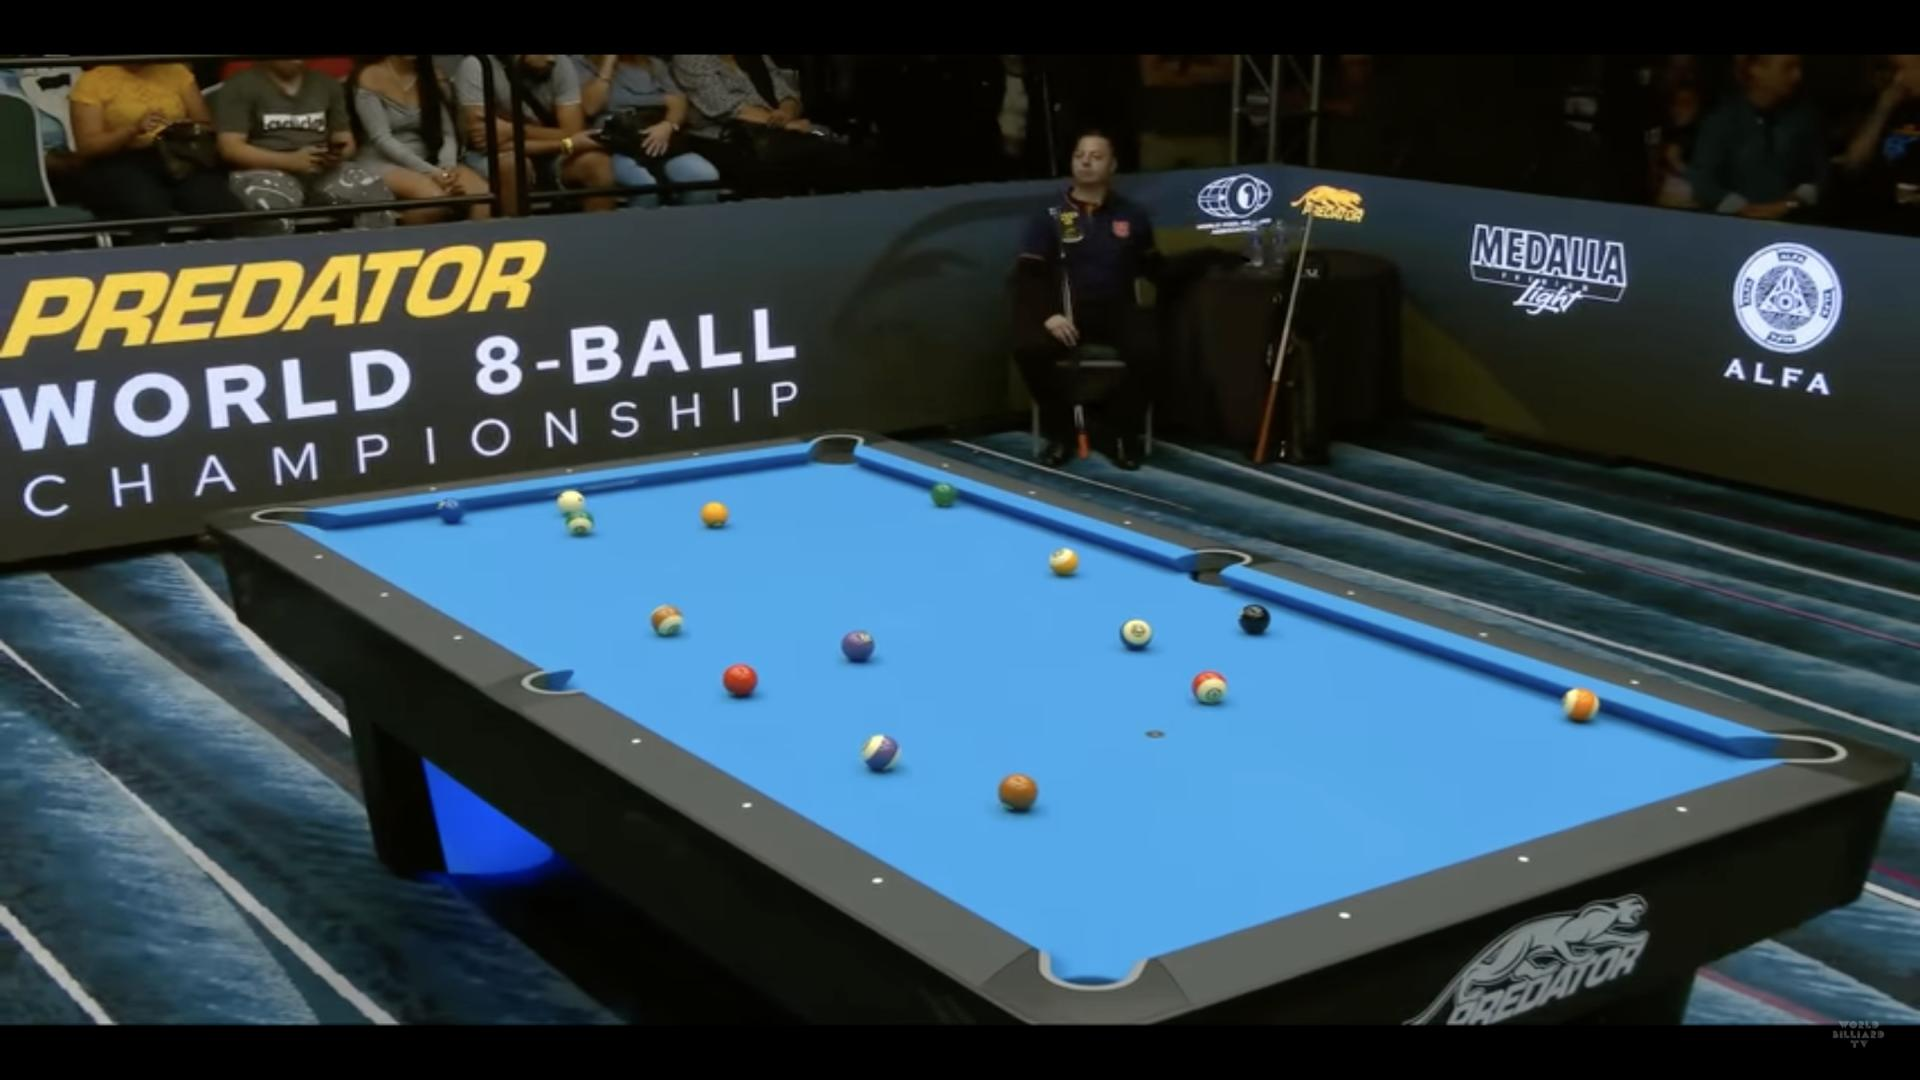Black: (1238, 604, 1270, 634)
Cue: (556, 491, 585, 513)
Dot: (1672, 802, 1692, 819), (1335, 906, 1353, 923), (1515, 851, 1534, 866), (628, 735, 644, 749), (869, 873, 884, 887), (741, 799, 756, 814), (1629, 676, 1640, 688), (1344, 585, 1356, 597), (1477, 629, 1489, 640), (314, 553, 324, 563), (378, 591, 390, 600), (452, 633, 463, 642), (429, 484, 439, 493), (1029, 489, 1038, 497), (942, 462, 951, 469), (1124, 518, 1131, 526), (566, 467, 574, 473), (692, 451, 700, 458)
Solid: (998, 774, 1036, 811), (723, 663, 758, 695), (843, 630, 876, 662), (700, 502, 729, 527), (435, 498, 463, 524), (932, 481, 956, 506)
Striped: (861, 735, 902, 771), (1563, 688, 1600, 721), (1192, 670, 1226, 704), (1120, 617, 1153, 649), (650, 604, 683, 636), (1050, 547, 1080, 574), (564, 510, 593, 535)
